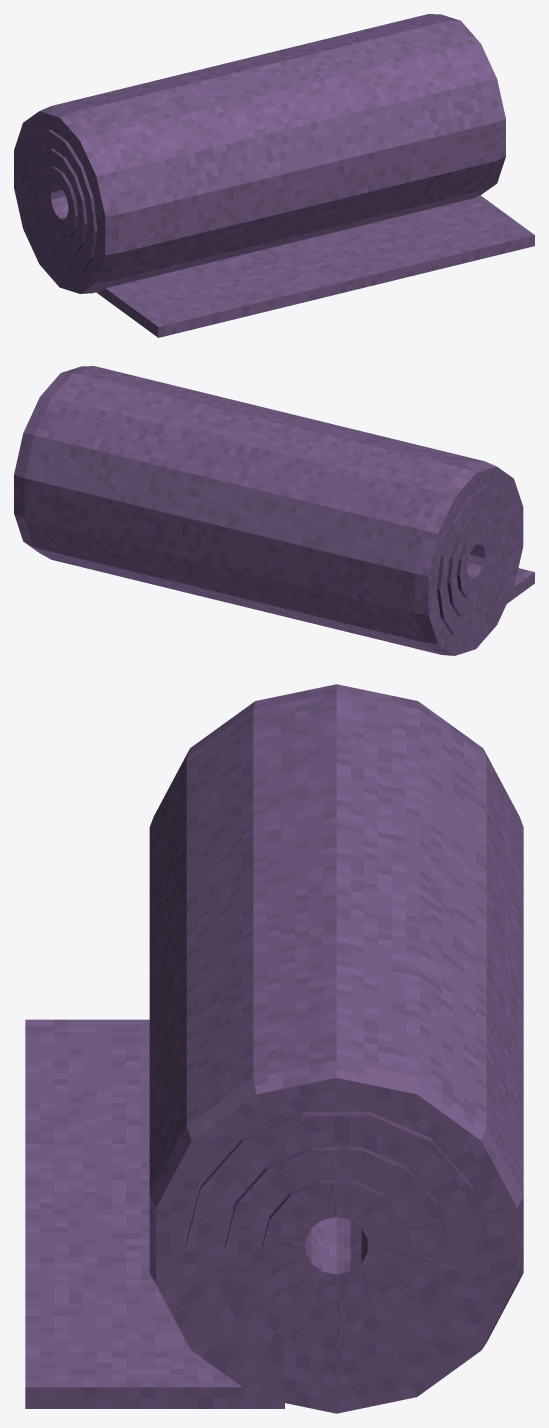
Rendered from p_carpet.glb.
3 renders of one model, top to bottom at view 1: azimuth 30°, elevation 25°; view 2: azimuth 150°, elevation 25°; view 3: azimuth 270°, elevation 25°, orthographic. The views are drawn at different scales.
Visible parts, largest first — view 1: block_rolled carpet, block_rolled carpet flap, block_coiled pile edge (×2); view 2: block_rolled carpet, block_coiled pile edge (×2), block_rolled carpet flap; view 3: block_rolled carpet, block_rolled carpet flap, block_coiled pile edge (×2).
Boxes of the visible parts, x1,y1,x2,y2 form: block_rolled carpet: (14,14,505,293); block_rolled carpet flap: (96,195,534,337); block_coiled pile edge (×2): (34,129,97,273); block_rolled carpet: (14,366,523,655); block_coiled pile edge (×2): (437,485,502,635); block_rolled carpet flap: (507,568,534,603); block_rolled carpet: (149,684,523,1413); block_rolled carpet flap: (25,1019,284,1408); block_coiled pile edge (×2): (185,1112,487,1248).
Size of the model in its own units: 0.3739 by 0.1523 by 0.1979.
1 material, 1 textured.
